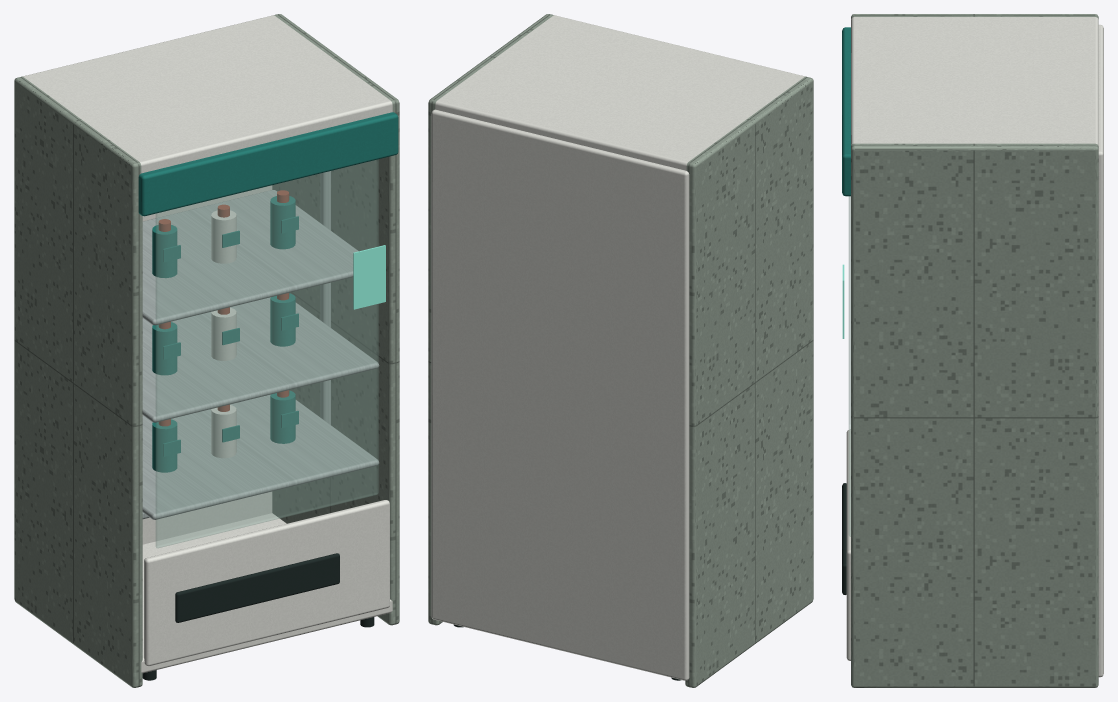
The model's file is detail-vending-1.glb.
The picture shows the model from 3 angles, left to right: view 1: azimuth 30°, elevation 25°; view 2: azimuth 150°, elevation 25°; view 3: azimuth 270°, elevation 25°; orthographic projection. The views are drawn at different scales.
Parts seen in each view (by area): view 1: cabinet_side (×2), display_glass, shelf (×3), cabinet_cap (×2), lower_door, header, bottle (×9), pickup_opening, cabinet_back, label_payment_screen, frame_side; view 2: cabinet_back, cabinet_side (×2), cabinet_cap; view 3: cabinet_side (×2), cabinet_cap, cabinet_back, header, lower_door, display_glass, pickup_opening.
Part boxes in pixels (x1=…): cabinet_side (×2): x1=14, y1=14, x2=399, y2=687; display_glass: x1=156, y1=159, x2=378, y2=547; shelf (×3): x1=142, y1=190, x2=379, y2=519; cabinet_cap (×2): x1=22, y1=15, x2=392, y2=673; lower_door: x1=144, y1=500, x2=389, y2=666; header: x1=138, y1=112, x2=398, y2=216; bottle (×9): x1=152, y1=196, x2=295, y2=472; pickup_opening: x1=175, y1=553, x2=339, y2=622; cabinet_back: x1=142, y1=185, x2=272, y2=544; label_payment_screen: x1=353, y1=245, x2=385, y2=309; frame_side: x1=320, y1=171, x2=330, y2=424; cabinet_back: x1=431, y1=109, x2=689, y2=680; cabinet_side (×2): x1=428, y1=14, x2=813, y2=687; cabinet_cap: x1=435, y1=15, x2=805, y2=170; cabinet_side (×2): x1=851, y1=14, x2=1098, y2=687; cabinet_cap: x1=851, y1=17, x2=1098, y2=145; cabinet_back: x1=1098, y1=24, x2=1103, y2=677; header: x1=842, y1=27, x2=850, y2=196; lower_door: x1=846, y1=429, x2=850, y2=660; display_glass: x1=849, y1=196, x2=850, y2=536; pickup_opening: x1=842, y1=483, x2=846, y2=594.
Size of the model in its own units: 1.1 by 2.05 by 0.8975.
Materials: 8 (6 with a texture image).
